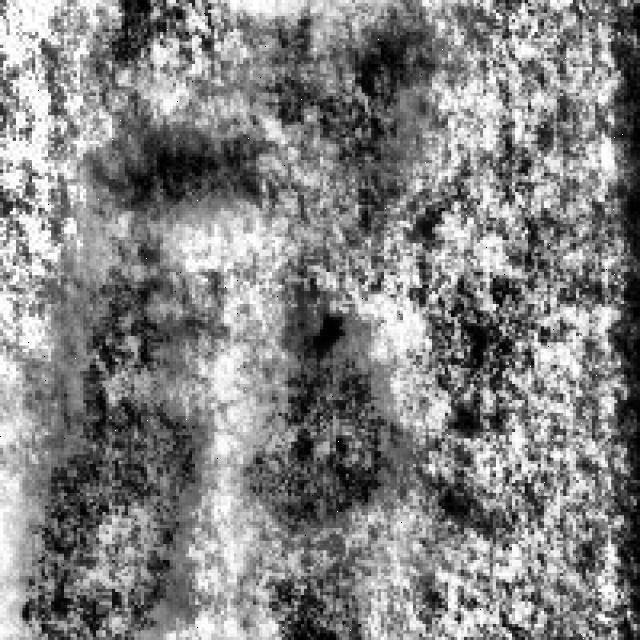Scratches: (19, 240, 227, 637), (208, 9, 445, 228), (243, 304, 413, 531), (70, 109, 301, 237)
